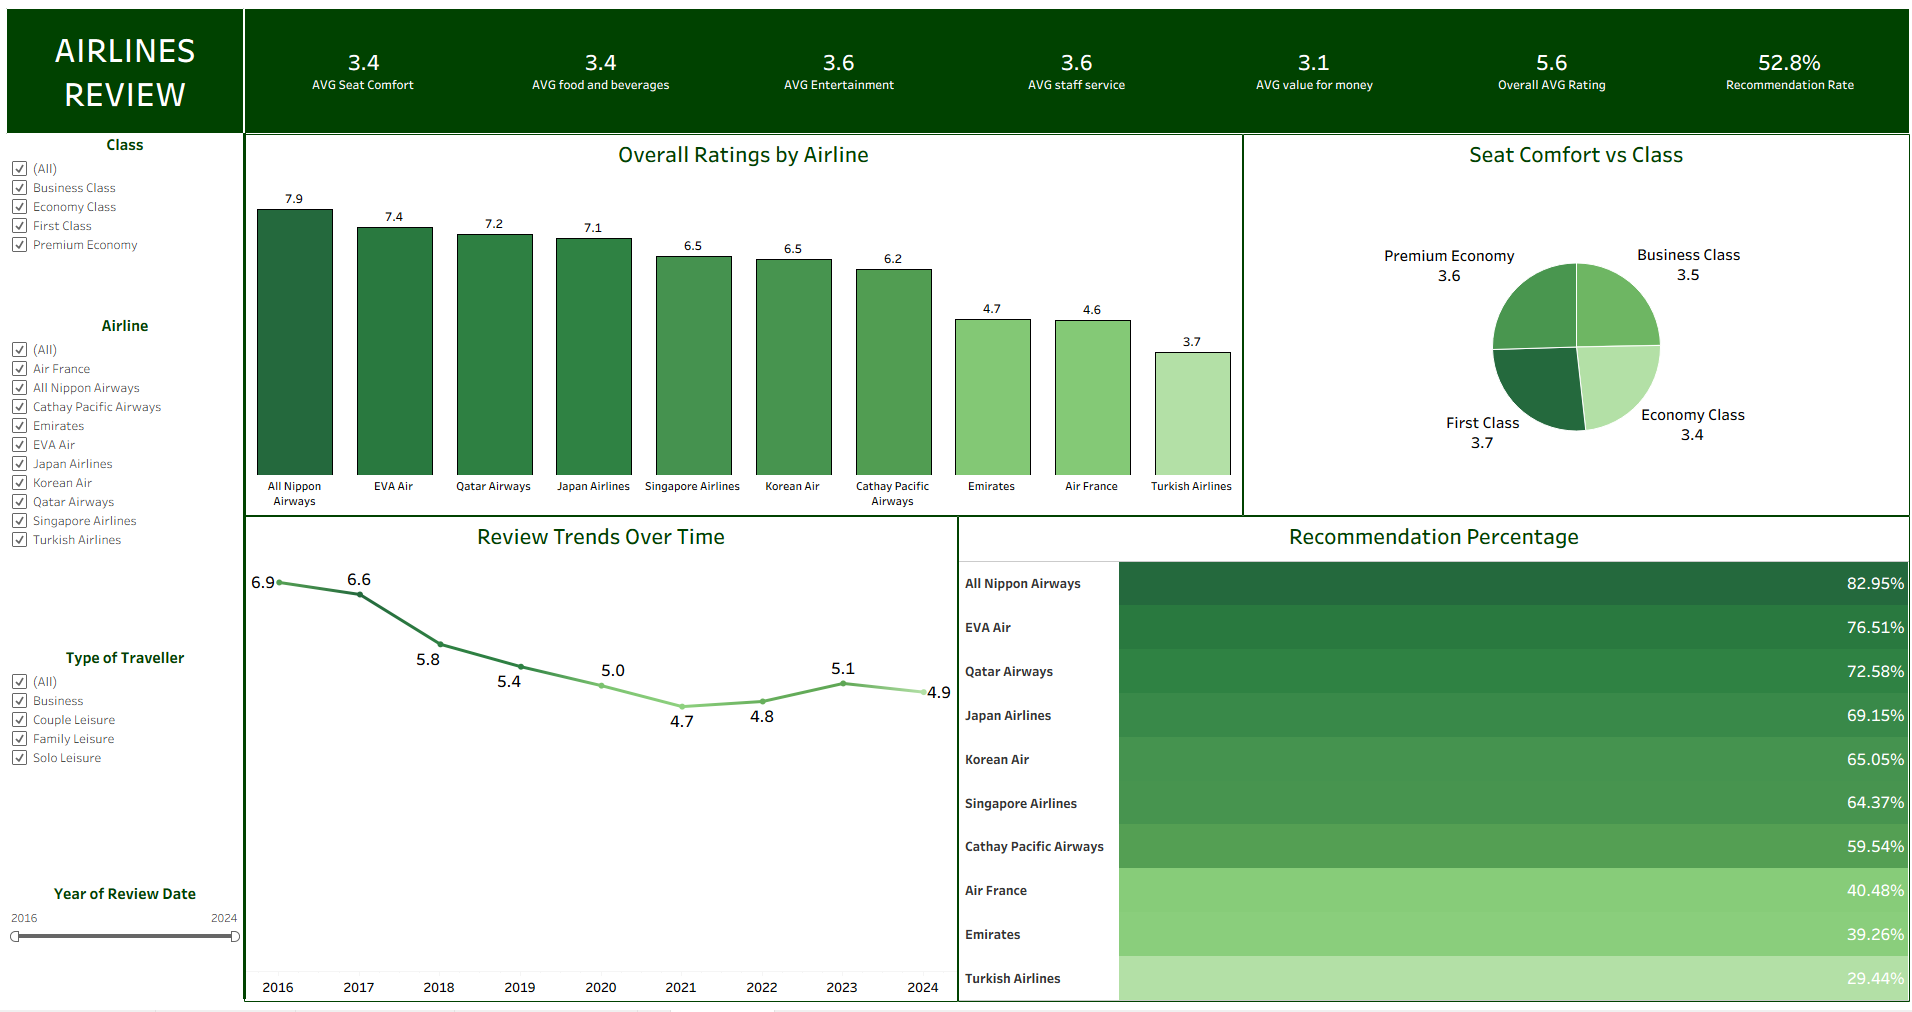

The dashboard page shown, as its layout file describes it:
{"tool":"tableau","page":{"name":"Dashboard 1","canvas":[1000,1000],"units":"permille","ordinal":0},"visuals":[{"type":"text","box":[4.8,10,123.8,124.7]},{"type":"worksheet","title":"KPI","mark":"Automatic","box":[128.6,10,866.7,124.7]},{"type":"blank","box":[127.4,132.2,1.8,857.9]},{"type":"filter","title":"Seat Comfort vs Class","param":"[federated.1oxb02t14xjjqq1b2x80a0ydj0eh].[none:Class:nk]","box":[4.8,134.7,123.8,178.3]},{"type":"worksheet","title":"Overall Ratings by Airline","mark":"Automatic","rows":["Overall Rating"],"cols":["Airline"],"box":[128.6,134.7,519.6,376.6]},{"type":"worksheet","title":"Seat Comfort vs Class","mark":"Pie","box":[648.2,134.7,347,376.6]},{"type":"filter","title":"Overall Ratings by Airline","param":"[federated.1oxb02t14xjjqq1b2x80a0ydj0eh].[none:Airline:nk]","box":[4.8,313,123.8,326.7]},{"type":"worksheet","title":"Review Trends Over Time","mark":"Line","rows":["Overall Rating"],"cols":["Review Date"],"box":[128.6,511.2,371.4,478.8]},{"type":"worksheet","title":"Recommendation Percentage","mark":"Square","rows":["Airline"],"box":[500,511.2,495.2,478.8]},{"type":"filter","title":"Recommendation Percentage","param":"[federated.1oxb02t14xjjqq1b2x80a0ydj0eh].[none:Type of Traveller:nk]","box":[4.8,639.6,123.8,233.2]},{"type":"filter","title":"Review Trends Over Time","param":"[federated.1oxb02t14xjjqq1b2x80a0ydj0eh].[tyr:Review Date:qk]","box":[4.8,872.8,123.8,117.2]}]}

Visuals, with their boxes on the dashboard's canvas, which has no fixed pixel size, in thousandths of its width and height (x1, y1, x2, y2). These are canvas units, not pixel positions in the 1912x1012 screenshot, which may show the page scaled, cropped or inside an application window:
text: BBox(5, 10, 129, 135)
"KPI" worksheet: BBox(129, 10, 995, 135)
blank: BBox(127, 132, 129, 990)
"Seat Comfort vs Class" filter: BBox(5, 135, 129, 313)
"Overall Ratings by Airline" worksheet: BBox(129, 135, 648, 511)
"Seat Comfort vs Class" worksheet (Pie marks): BBox(648, 135, 995, 511)
"Overall Ratings by Airline" filter: BBox(5, 313, 129, 640)
"Review Trends Over Time" worksheet (Line marks): BBox(129, 511, 500, 990)
"Recommendation Percentage" worksheet (Square marks): BBox(500, 511, 995, 990)
"Recommendation Percentage" filter: BBox(5, 640, 129, 873)
"Review Trends Over Time" filter: BBox(5, 873, 129, 990)
